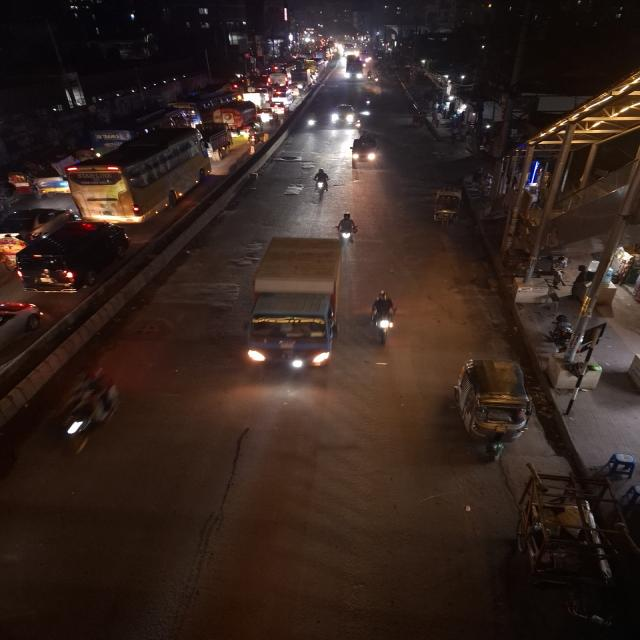bus: (64, 127, 208, 223), (169, 86, 240, 123), (343, 56, 365, 82)
car: (14, 220, 131, 296), (1, 204, 76, 240), (347, 132, 382, 168), (332, 103, 357, 126)
cng: (451, 356, 540, 465)
motorcycle: (47, 361, 125, 455), (367, 288, 401, 344), (333, 211, 361, 247), (310, 166, 333, 200), (303, 110, 320, 132)
rickshaw: (428, 184, 468, 230)
truck: (242, 234, 351, 378), (220, 105, 258, 129), (343, 55, 366, 82)
